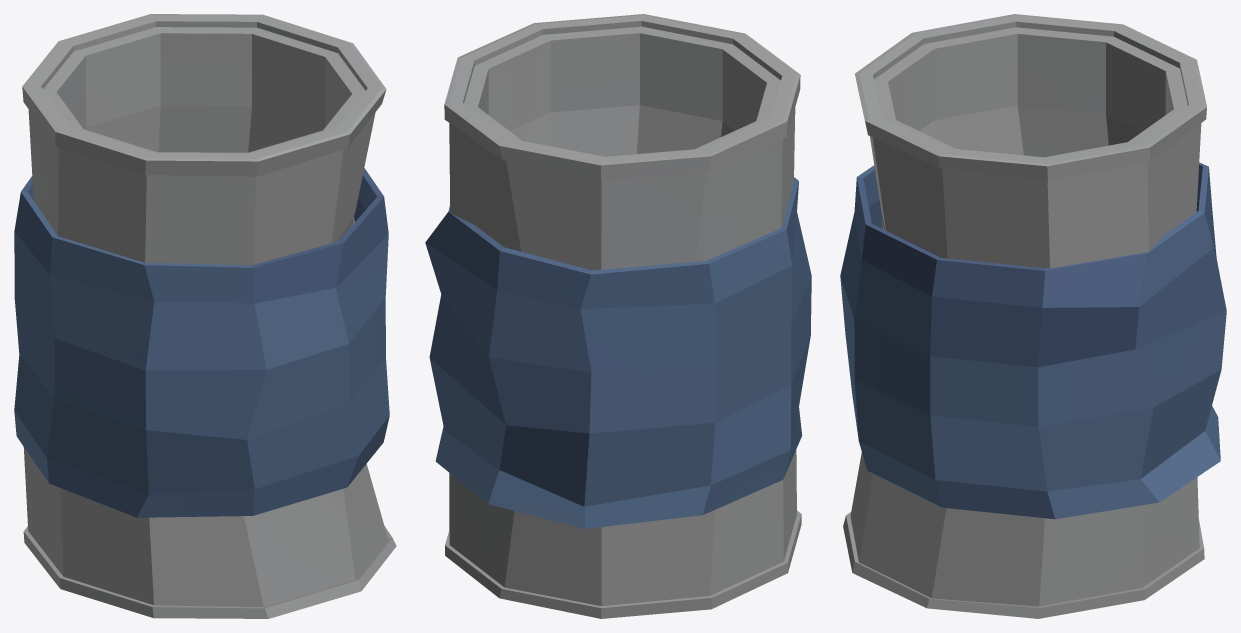
The model's file is can_1_opened.glb.
3 renders of one model, left to right at view 1: azimuth 30°, elevation 25°; view 2: azimuth 150°, elevation 25°; view 3: azimuth 270°, elevation 25°, orthographic.
Visible parts, largest first — view 1: can_1_opened; view 2: can_1_opened; view 3: can_1_opened.
Boxes of the visible parts, box(x1,y1,x2,y2) form: can_1_opened: box(14, 14, 396, 618); can_1_opened: box(425, 14, 811, 618); can_1_opened: box(840, 14, 1226, 618).
Size of the model in its own units: 0.113 by 0.1517 by 0.1175.
Materials: 1 (1 with a texture image).
